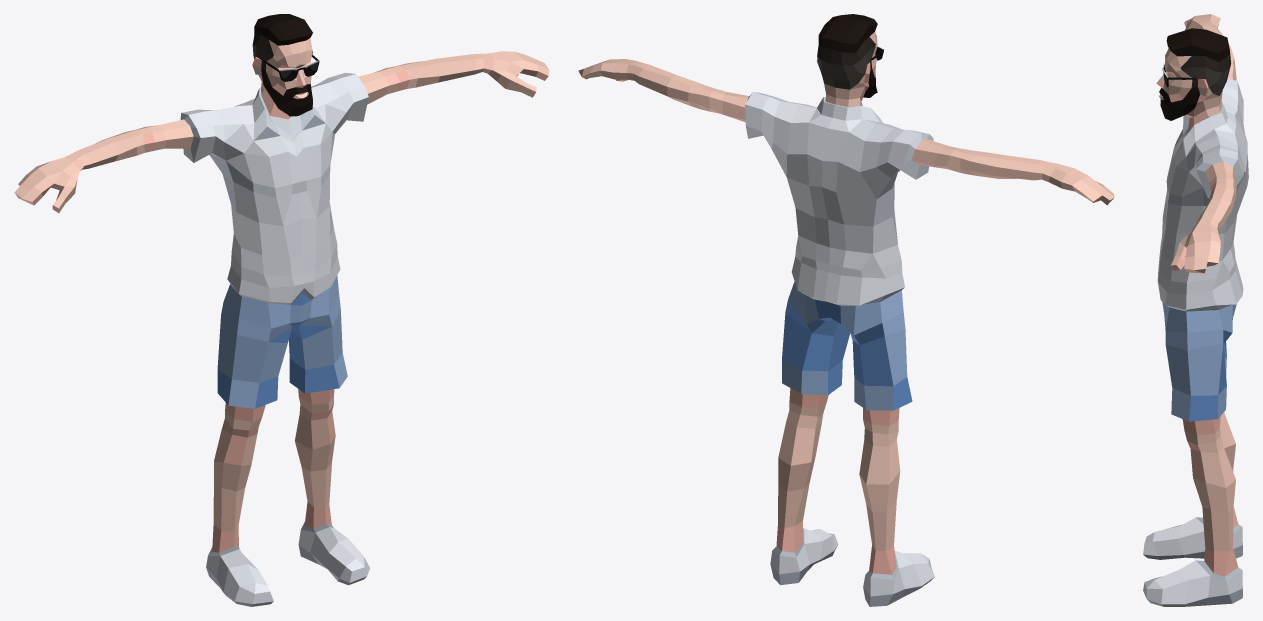
File: casual_Male_J-model.fbx
The picture shows the model from 3 angles, left to right: view 1: azimuth 30°, elevation 25°; view 2: azimuth 150°, elevation 25°; view 3: azimuth 270°, elevation 25°; orthographic projection. The views are drawn at different scales.
Visible parts, largest first — view 1: casual_Male_J; view 2: casual_Male_J; view 3: casual_Male_J.
Part boxes in pixels (x1,y1,x2,y2): casual_Male_J: (14,14,549,606); casual_Male_J: (578,14,1114,606); casual_Male_J: (1143,14,1248,606).
Size of the model in its own units: 168 by 169 by 29.83.
Materials: 1 (1 with a texture image).
